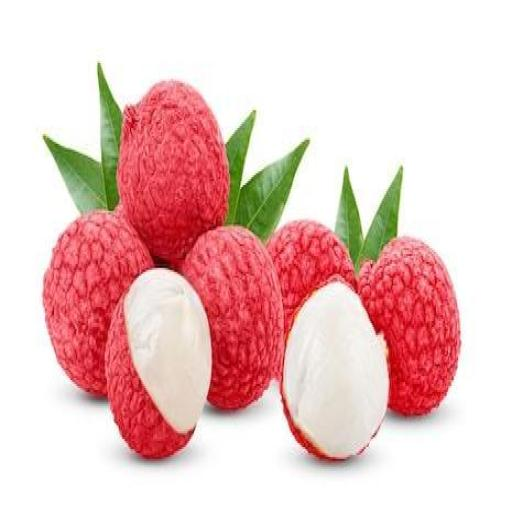lychee: (117, 81, 229, 267), (43, 211, 153, 395), (106, 268, 211, 458), (281, 276, 388, 460), (182, 227, 282, 409), (358, 239, 460, 415), (267, 221, 355, 330)
